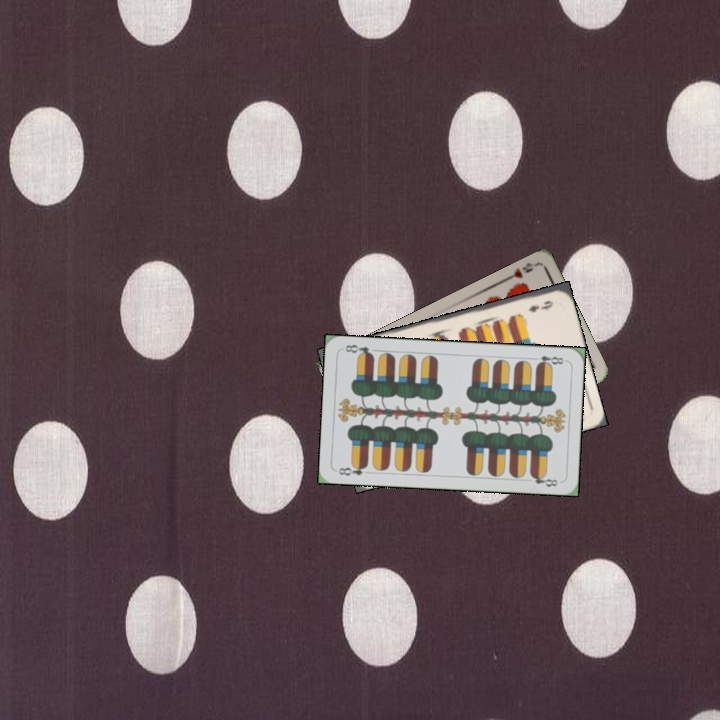E8: (528, 351, 568, 369), (335, 460, 370, 478)
E9: (525, 296, 556, 315)
H9: (501, 259, 539, 283)
